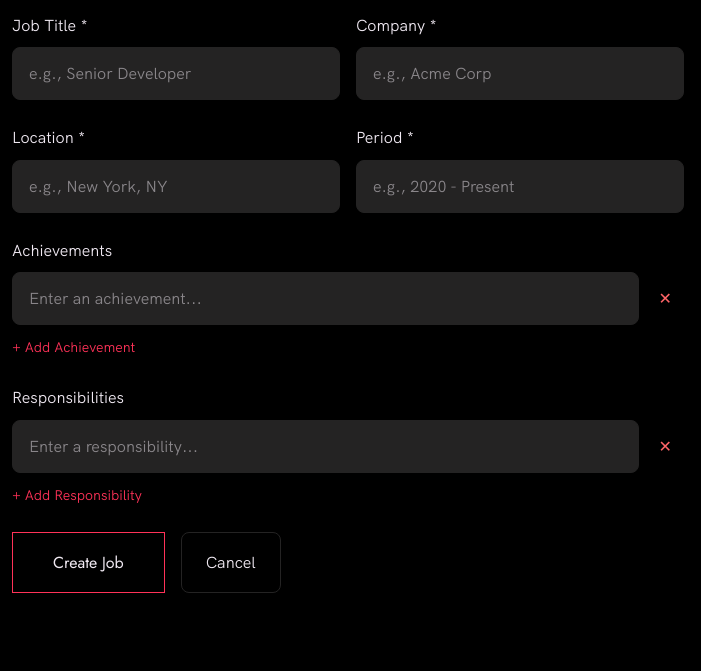
Scenario: JobForm Component › Create Mode › allows adding achievements
Click the button "+ Add Achievement": (74, 347) top-left (12, 337), bottom-right (135, 357)
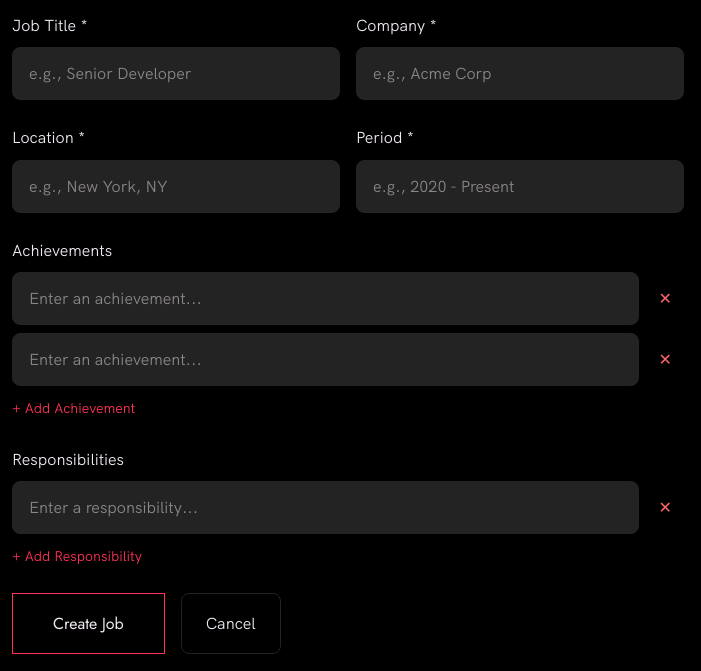
Expected: the number of fields with placeholder "Enter an achievement..." is 2, top-left (12, 272), bottom-right (639, 325); top-left (12, 333), bottom-right (639, 386)
